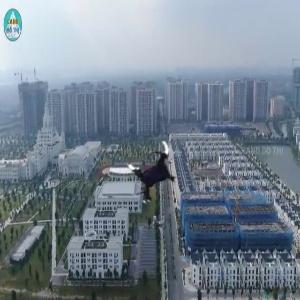drone: (117, 137, 188, 208)
